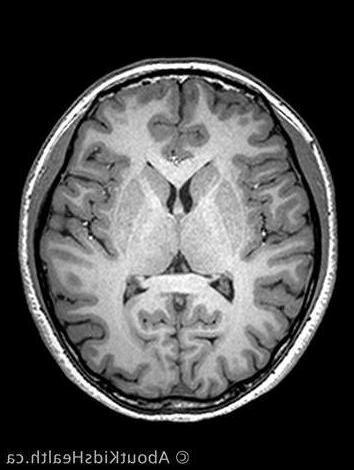Normal_Brain: (1, 1, 354, 470)
